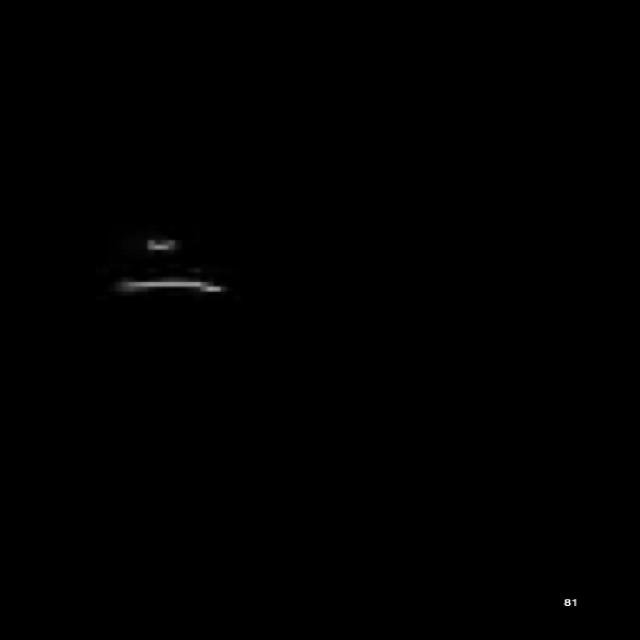2 -two-: (110, 228, 243, 307)
